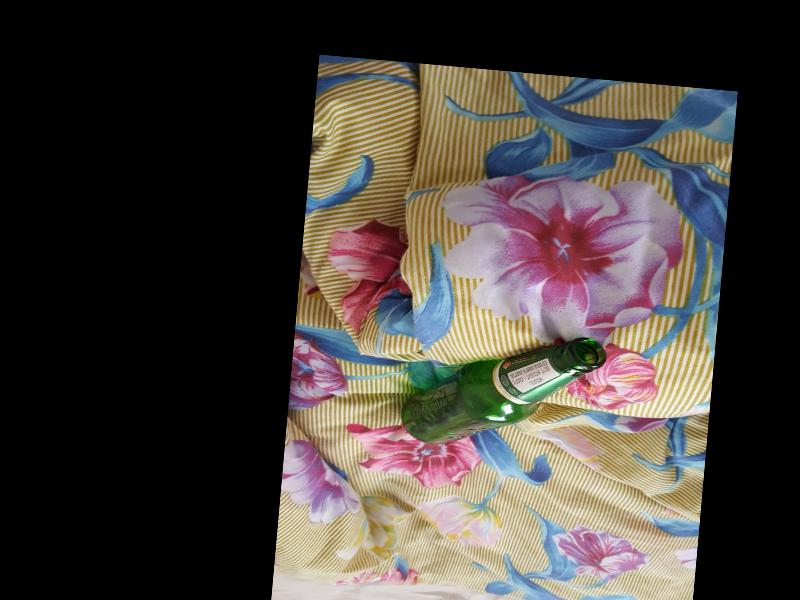Beer: (401, 321, 606, 457)
